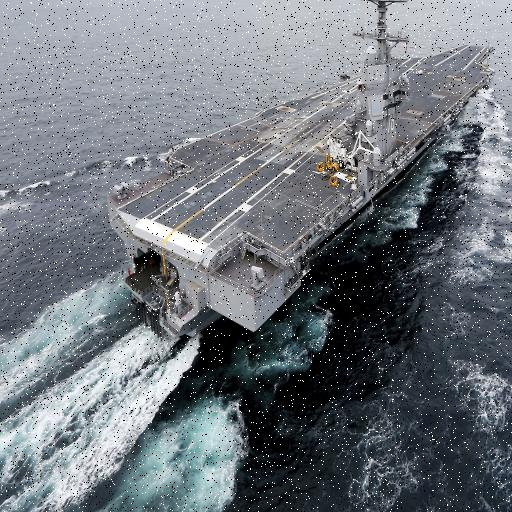Portanaves: (103, 1, 500, 353)
